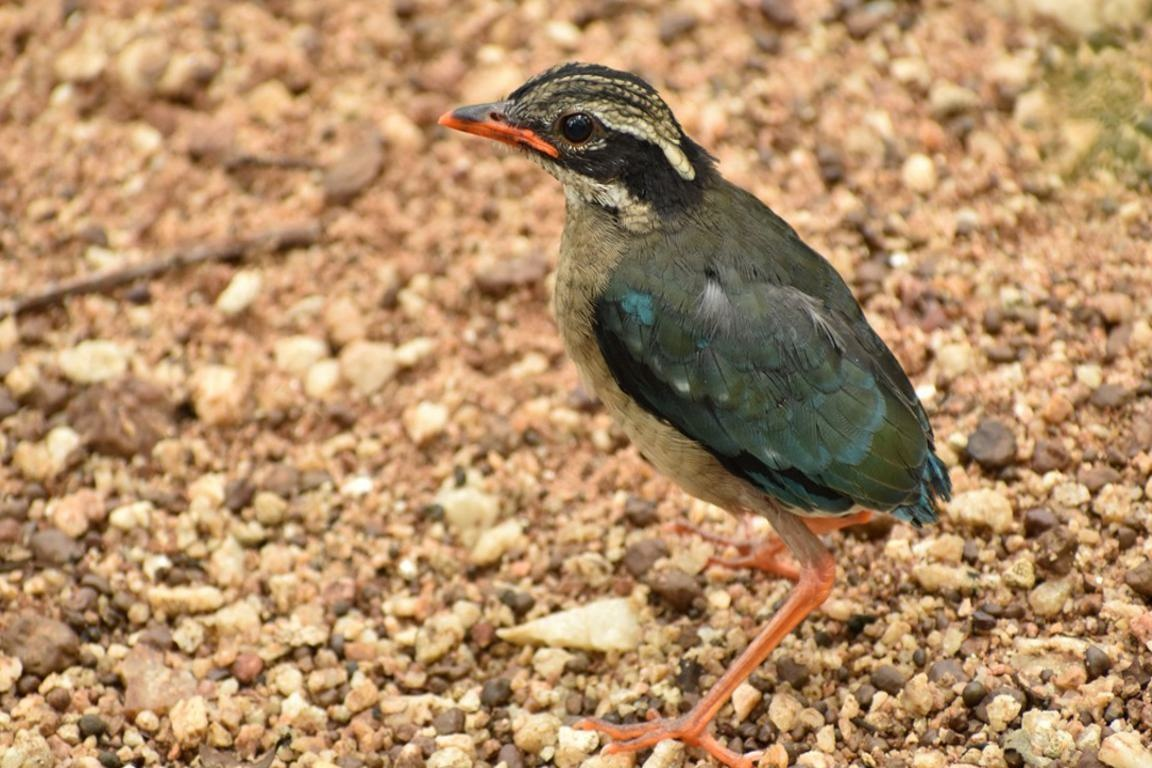pitta: (450, 57, 964, 666)
